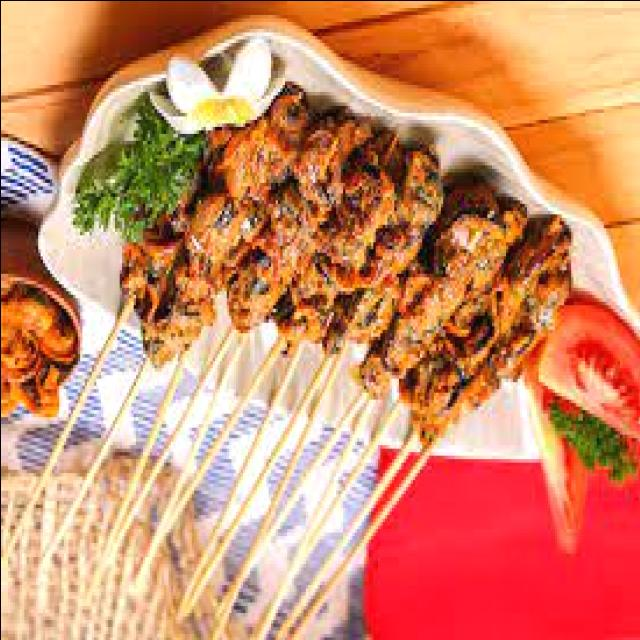sate: (0, 91, 570, 640)
